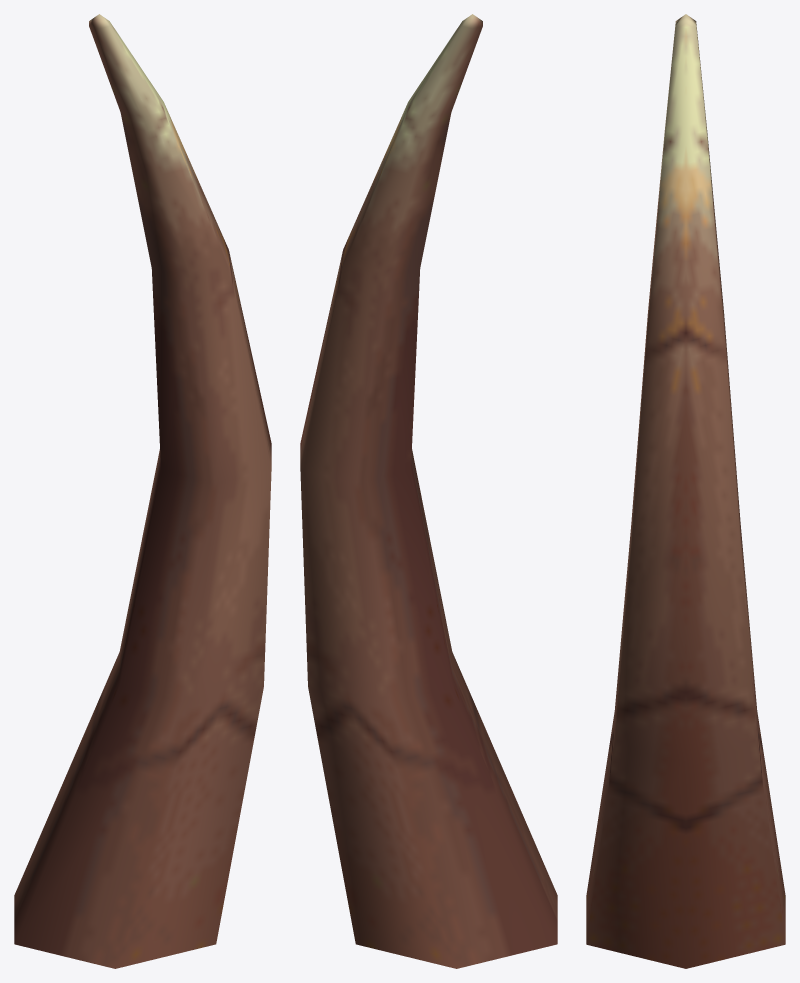
The model's file is sm_gutou1.fbx.
3 views of the same model, side by side, from view 1: azimuth 30°, elevation 25°; view 2: azimuth 150°, elevation 25°; view 3: azimuth 270°, elevation 25° (orthographic).
Visible parts, largest first — view 1: sm_gutou1; view 2: sm_gutou1; view 3: sm_gutou1.
Boxes of the visible parts, box(x1,y1,x2,y2) form: sm_gutou1: box(14, 14, 271, 968); sm_gutou1: box(300, 14, 557, 968); sm_gutou1: box(586, 14, 785, 968).
Bounding box in the file's own units: 265 × 896 × 180.
